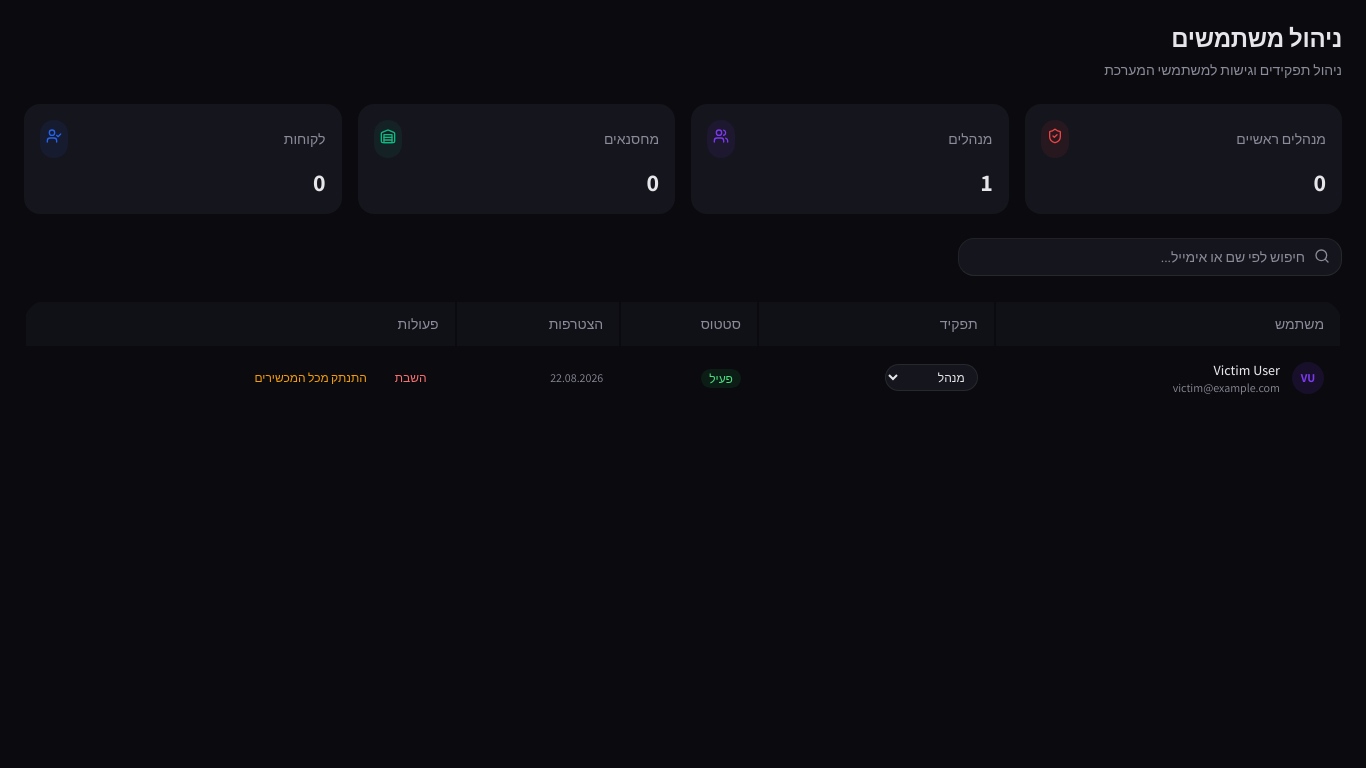
Test case: AdminUsersPage — Force Logout ("התנתק מכל המכשירים") › prevents a duplicate submission while the request is pending (button disabled mid-flight)
Expected: the text "Victim User" is shown, [1214,361,1280,379]
Click the button "התנתק מכל המכשירים" at (311,378), box [242,366,379,390]
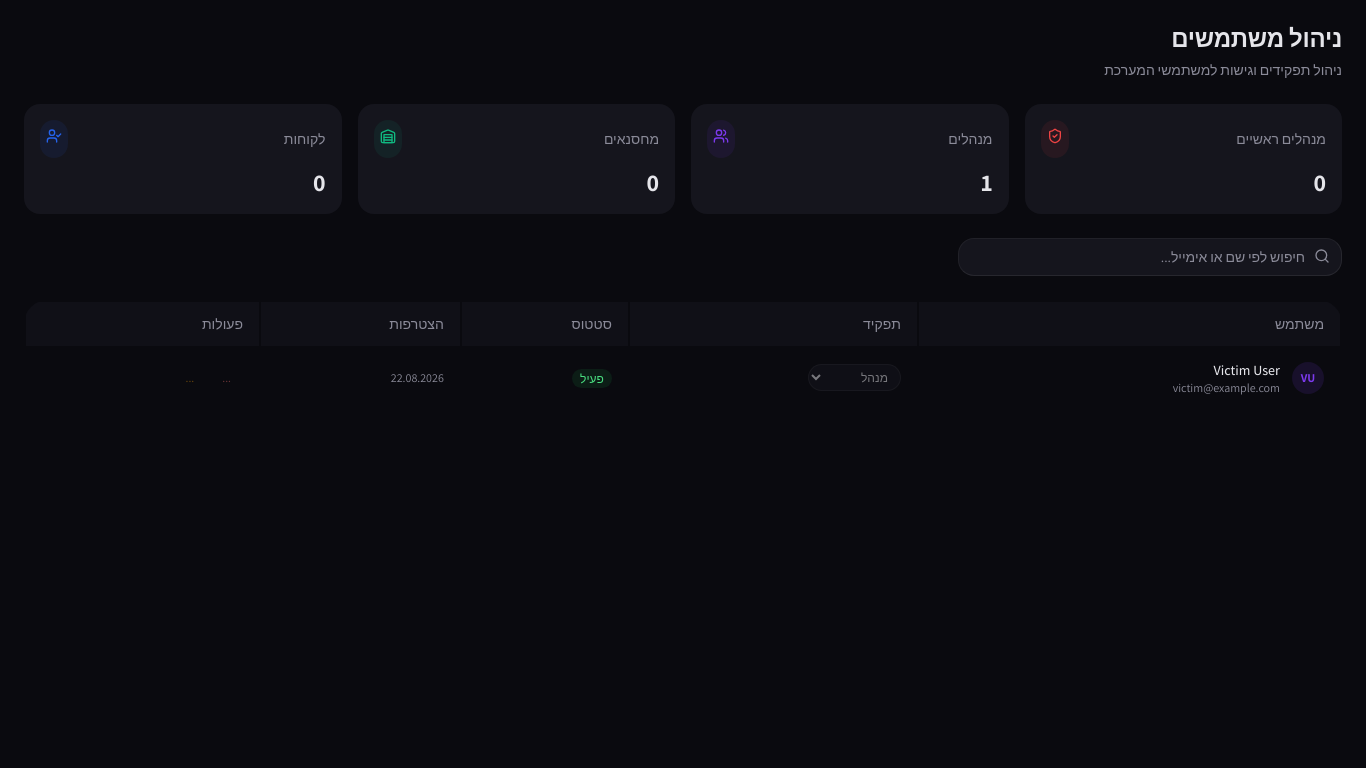
Click the 1st button "התנתק מכל המכשירים" at (190,378), box [174,366,206,390]
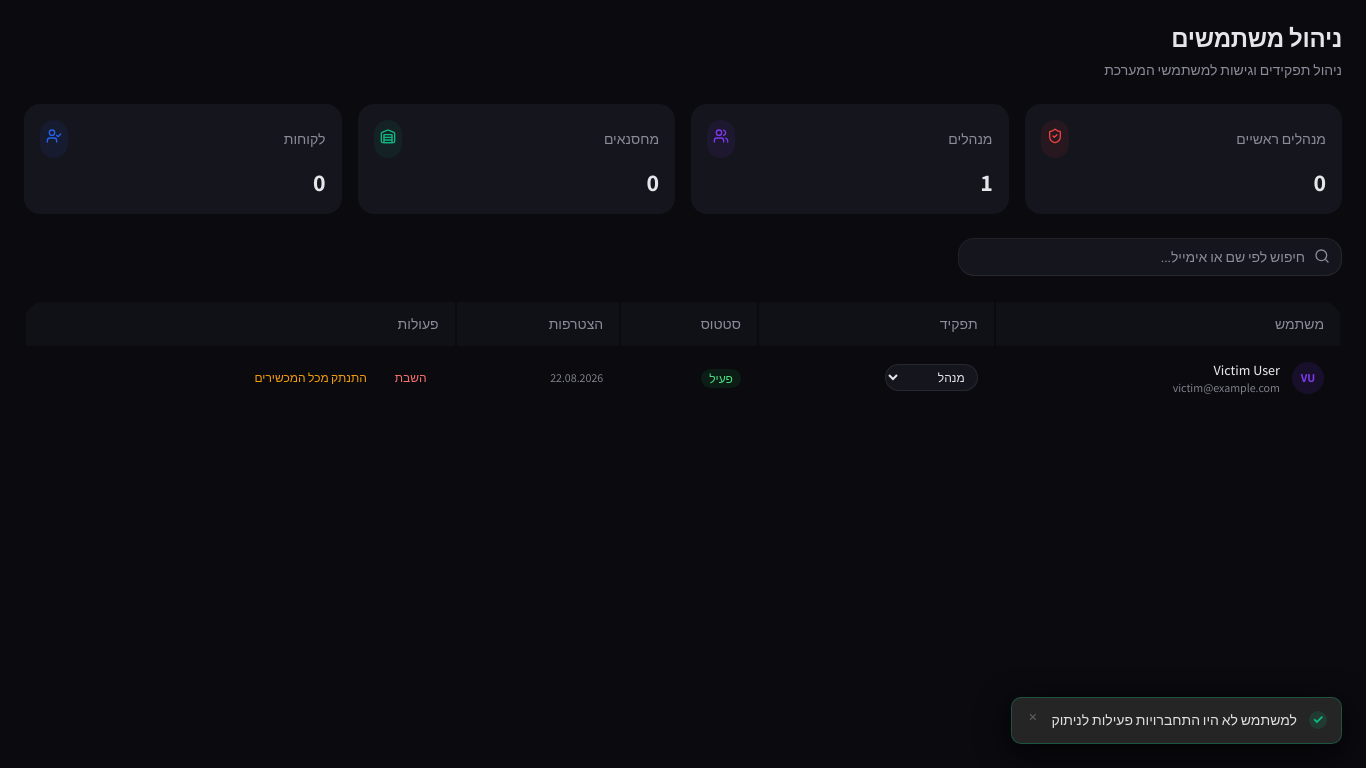
Now the text "למשתמש לא היו התחברויות פעילות לניתוק" is shown, box [1051,710,1297,731]
